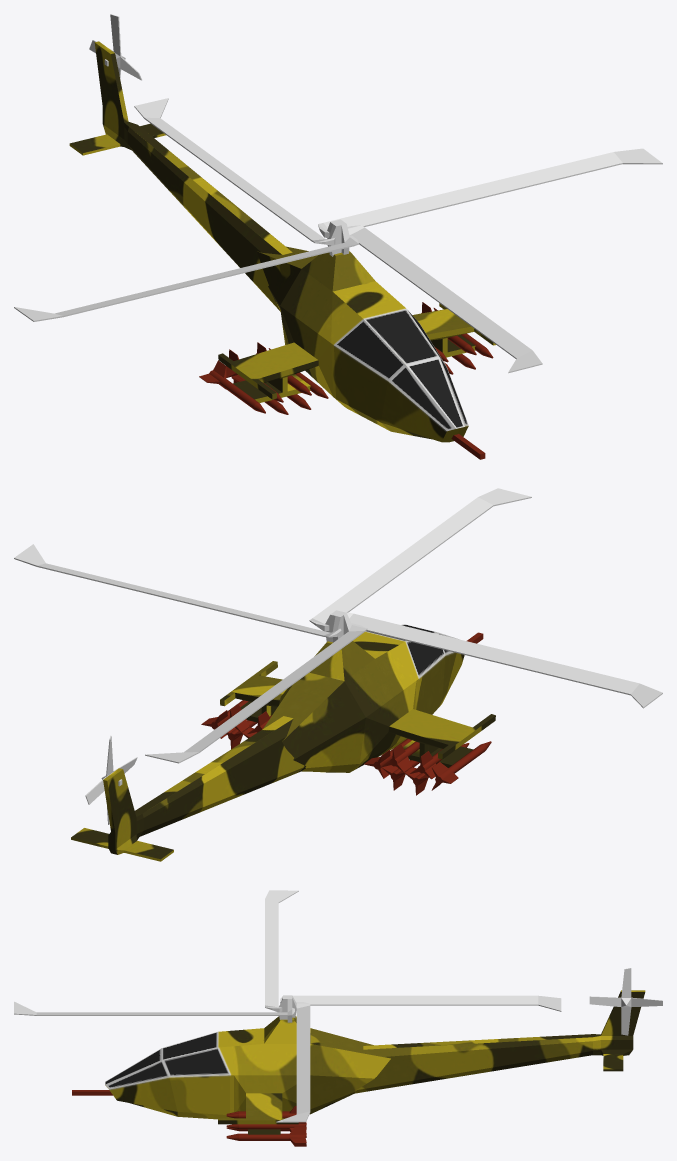
File: 091 Helicopter.fbx
The picture shows the model from 3 angles, top to bottom: view 1: azimuth 30°, elevation 25°; view 2: azimuth 150°, elevation 25°; view 3: azimuth 270°, elevation 25°; orthographic projection. The views are drawn at different scales.
Visible parts, largest first — view 1: Cube, Cube.002, Missile.001, Cube.003; view 2: Cube, Cube.002, Missile.001, Cube.003, Missile.003; view 3: Cube, Cube.002, Cube.003, Missile.006, Missile.009.
Part boxes in pixels (box(x1,y1,x2,y2)): Cube: box(69, 41, 495, 442); Cube.002: box(14, 98, 662, 373); Missile.001: box(199, 360, 265, 413); Cube.003: box(89, 14, 141, 80); Cube: box(71, 624, 495, 861); Cube.002: box(14, 488, 662, 763); Missile.001: box(431, 741, 491, 790); Cube.003: box(85, 735, 137, 824); Missile.003: box(382, 741, 419, 772); Cube: box(105, 990, 645, 1134); Cube.002: box(14, 890, 561, 1122); Cube.003: box(589, 968, 662, 1035); Missile.006: box(226, 1126, 306, 1143); Missile.009: box(226, 1122, 306, 1135).
Bounding box in the file's own units: 1357 × 395 × 1609.
3 materials, 1 textured.
